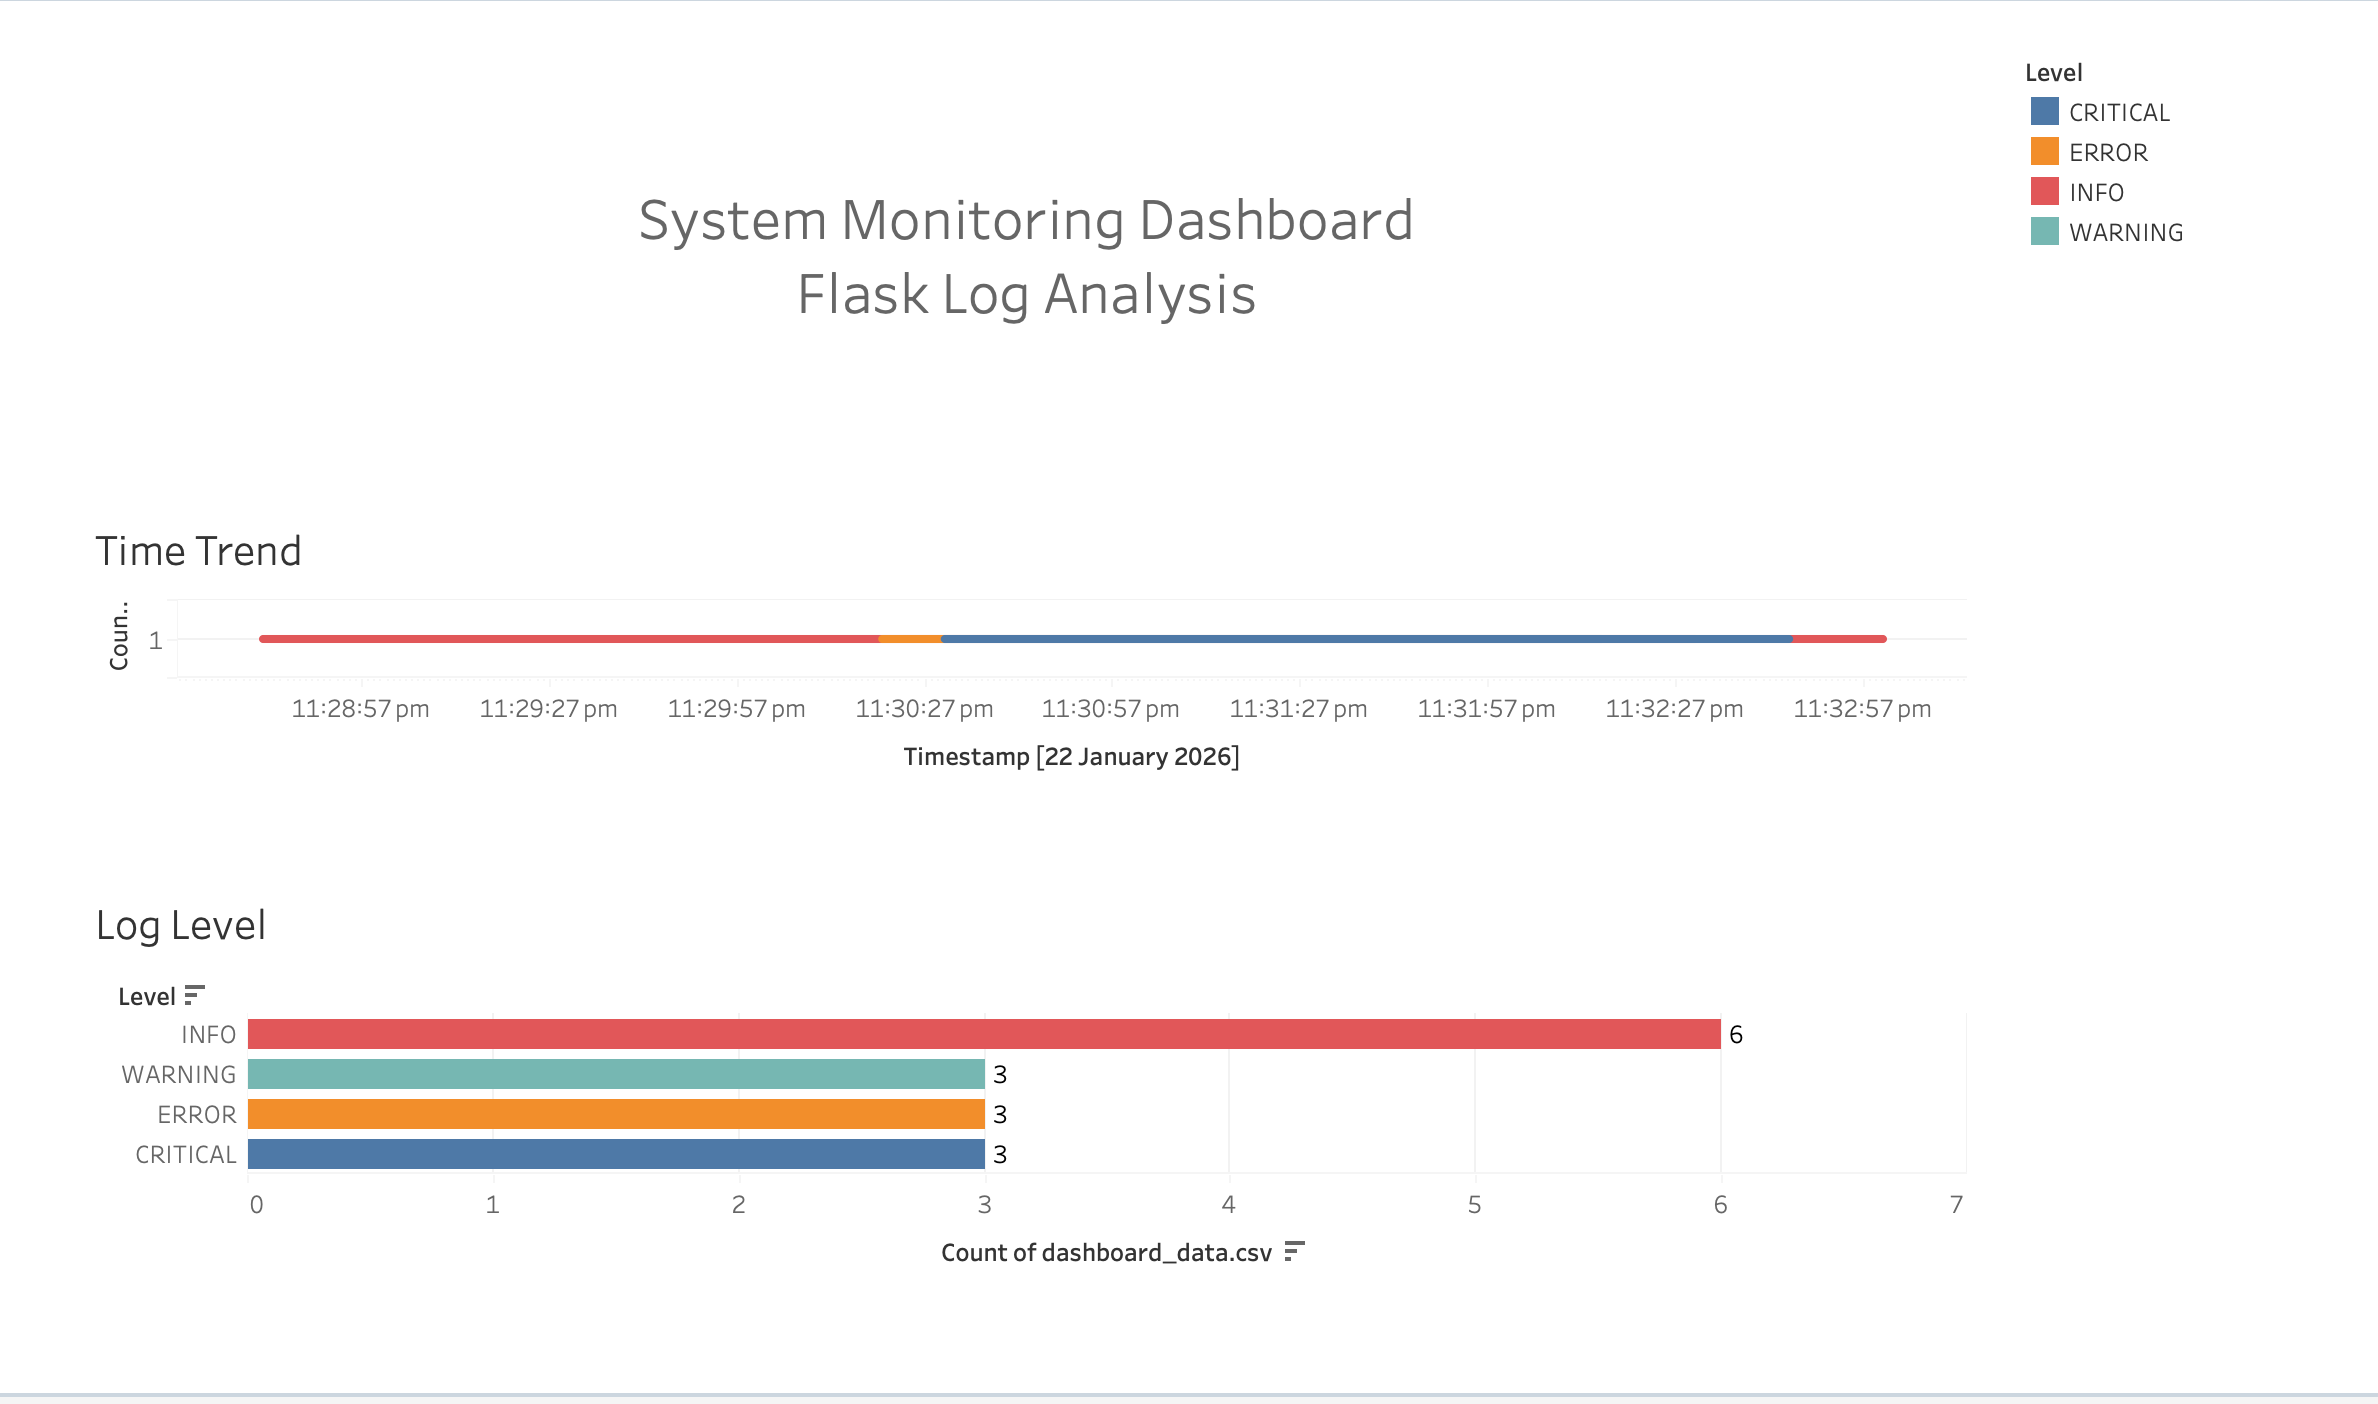

Layout of this report page (visuals, bound fields, positions):
{"tool":"tableau","page":{"name":"Dashboard 1","canvas":[1200,700],"ordinal":0},"visuals":[{"type":"text","box":[25,25,990,208]},{"type":"legend","title":"Time Trend","param":"[federated.0p9jeau0v5k0ys1eleeny0kevj09].[none:level:nk]","box":[1015,25,160,106]},{"type":"worksheet","title":"Time Trend","mark":"Line","rows":["dashboard_data.csv_79021B282C68459D94714E129671D7F3"],"cols":["timestamp"],"box":[25,233,990,187]},{"type":"worksheet","title":"Log Level","mark":"Automatic","rows":["level"],"cols":["dashboard_data.csv_79021B282C68459D94714E129671D7F3"],"box":[25,420,990,255]}]}

Visuals, with their boxes in screenshot pixels (x1, y1, x2, y2), scaled from the page's 1200x700 canvas onto the 2378x1404 screenshot:
text: rect(50, 50, 2011, 467)
"Time Trend" legend: rect(2011, 50, 2328, 263)
"Time Trend" worksheet (Line marks): rect(50, 467, 2011, 842)
"Log Level" worksheet: rect(50, 842, 2011, 1354)
